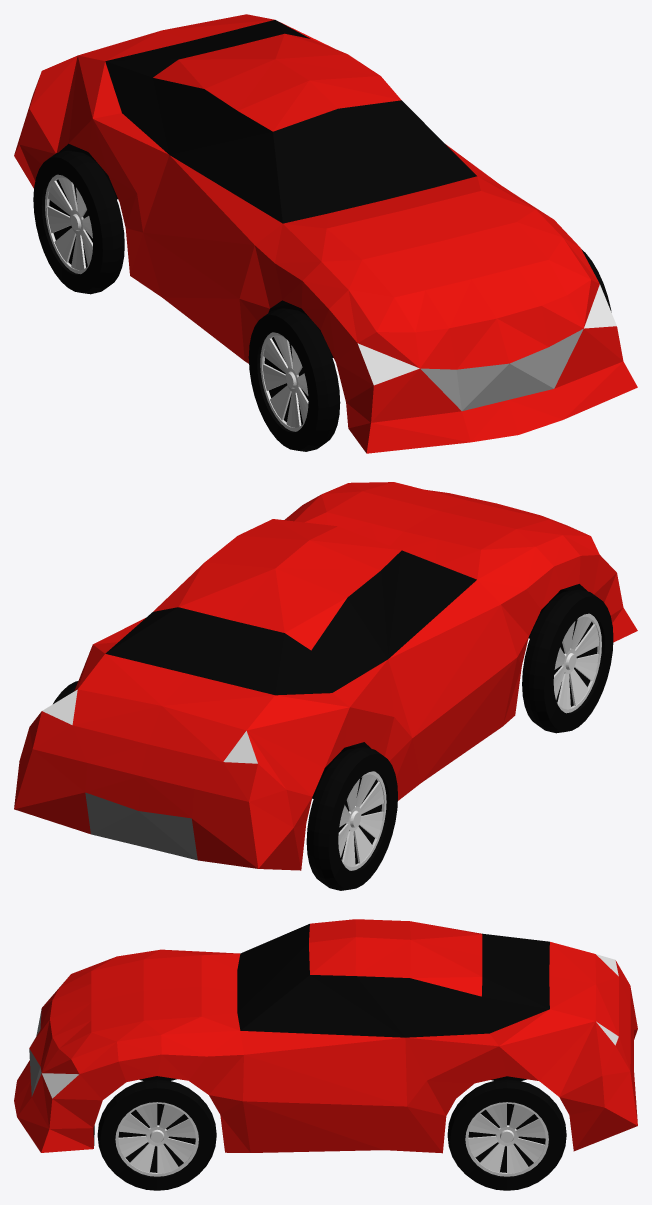
File: cardziala.fbx
3 views of the same model, one above another, from view 1: azimuth 30°, elevation 25°; view 2: azimuth 150°, elevation 25°; view 3: azimuth 270°, elevation 25° (orthographic). The views are drawn at different scales.
Visible parts, largest first — view 1: Cube, Circle, Circle.001; view 2: Cube, Circle.001, Circle; view 3: Cube, Circle.002, Circle.003.
Part boxes in pixels (bbox=[...]): Cube: bbox=[14, 14, 637, 453]; Circle: bbox=[33, 150, 124, 294]; Circle.001: bbox=[248, 308, 340, 451]; Cube: bbox=[14, 482, 637, 870]; Circle.001: bbox=[522, 589, 613, 733]; Circle: bbox=[306, 747, 397, 890]; Cube: bbox=[14, 919, 637, 1153]; Circle.002: bbox=[447, 1079, 566, 1190]; Circle.003: bbox=[97, 1079, 216, 1190].
Size of the model in its own units: 169 by 132 by 377.
